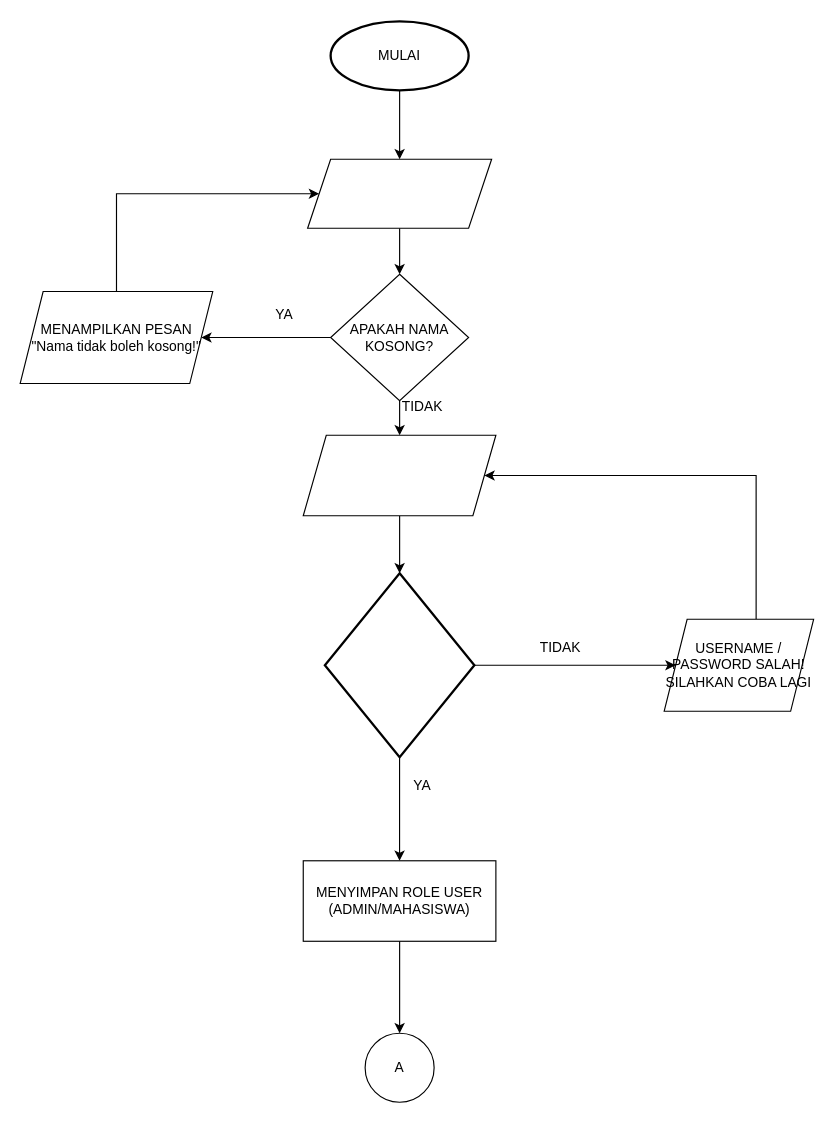
Some shapes in this 834 by 1122 pixel diagram are drawn without their labels. The shapes that lost their labels are listed below. From the top down, each one's box as (x1, y1, x2, y2) in pixels, then its label:
(306, 158, 492, 228): MENGINPUT NAMA PANGGILAN USER
(302, 434, 496, 516): MENGINPUT USERNAME DAN PASSWORD USER
(323, 572, 475, 758): USERNAME & PASSWORD USER BENAR?
